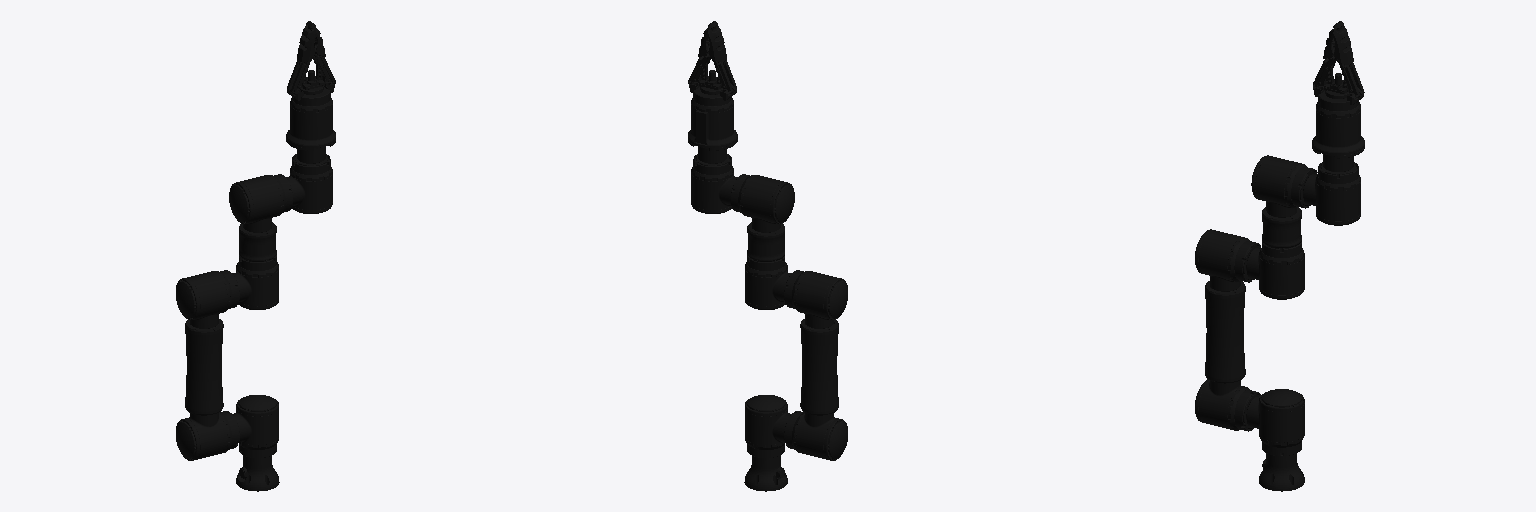
The robot description file, URDF, robot "aquarm_origin":
<?xml version="1.0"?>
<robot name="aquarm_origin">
  <material name="silver">
    <color rgba="0.116 0.116 0.116 1.000"/>
  </material>
  <link name="base_link">
    <inertial>
      <origin rpy="0 0 0" xyz="-0.0012826207051944384 9.218271998639004e-07 0.022718286485849747"/>
      <mass value="0.43979388247230944"/>
      <inertia ixx="0.000228" ixy="0.0" ixz="2e-06" iyy="0.000242" iyz="-0.0" izz="0.00024"/>
    </inertial>
    <visual>
      <origin rpy="0 0 0" xyz="0 0 0"/>
      <geometry>
        <mesh filename="../meshes/aquarm_origin/base_link.stl" scale="1.0 1.0 1.0"/>
      </geometry>
      <material name="silver"/>
    </visual>
    <collision>
      <origin rpy="0 0 0" xyz="0 0 0.028"/>
      <geometry>
        <cylinder radius="0.030" length="0.046"/>
      </geometry>
    </collision>
  </link>
  <link name="link_1">
    <inertial>
      <origin rpy="0 0 0" xyz="-0.002360416530553523 -3.52764964031724e-06 0.03938053665298224"/>
      <mass value="0.7586472269825323"/>
      <inertia ixx="0.000583" ixy="-0.0" ixz="1.9e-05" iyy="0.000642" iyz="-1e-06" izz="0.000509"/>
    </inertial>
    <visual>
      <origin rpy="0 0 0" xyz="0.0 0.0 -0.056"/>
      <geometry>
        <mesh filename="../meshes/aquarm_origin/link_1.stl" scale="1.0 1.0 1.0"/>
      </geometry>
      <material name="silver"/>
    </visual>
    <collision>
      <origin rpy="0 0 0" xyz="0 0 0.01"/>
      <geometry>
        <cylinder radius="0.025" length="0.0195"/>
      </geometry>
    </collision>
    <collision>
      <origin rpy="0 0 0" xyz="0 0 0.055"/>
      <geometry>
        <cylinder radius="0.040" length="0.07"/>
      </geometry>
    </collision>
    <collision>
      <origin rpy="0 1.5708 0" xyz="-0.05 0 0.05"/>
      <geometry>
        <cylinder radius="0.025" length="0.0195"/>
      </geometry>
    </collision>
  </link>
  <link name="link_2">
    <inertial>
      <origin rpy="0 0 0" xyz="-0.0412061525896634 -1.451457640822732e-09 0.12500022434407893"/>
      <mass value="1.8322876716564722"/>
      <inertia ixx="0.02501" ixy="-0.0" ixz="0.0" iyy="0.025305" iyz="0.0" izz="0.0014"/>
    </inertial>
    <visual>
      <origin rpy="0 0 0" xyz="0.0495 -0.0 -0.106"/>
      <geometry>
        <mesh filename="../meshes/aquarm_origin/link_2.stl" scale="1.0 1.0 1.0"/>
      </geometry>
      <material name="silver"/>
    </visual>
    <collision>
      <origin rpy="0 1.5708 0" xyz="-0.05 0 0"/>
      <geometry>
        <cylinder radius="0.040" length="0.07"/>
      </geometry>
    </collision>
    <collision>
      <origin rpy="0 0 0" xyz="-0.05 0 0.125"/>
      <geometry>
        <cylinder radius="0.030" length="0.18"/>
      </geometry>
    </collision>
    <collision>
      <origin rpy="0 1.5708 0" xyz="-0.05 0 0.25"/>
      <geometry>
        <cylinder radius="0.040" length="0.07"/>
      </geometry>
    </collision>
  </link>
  <link name="link_3">
    <inertial>
      <origin rpy="0 0 0" xyz="0.047139569533553013 3.524564222311259e-06 0.010619424652950016"/>
      <mass value="0.7586473967627646"/>
      <inertia ixx="0.000583" ixy="0.0" ixz="-1.9e-05" iyy="0.000642" iyz="-1e-06" izz="0.000509"/>
    </inertial>
    <visual>
      <origin rpy="0 0 0" xyz="0.0495 0.0 -0.356"/>
      <geometry>
        <mesh filename="../meshes/aquarm_origin/link_3.stl" scale="1.0 1.0 1.0"/>
      </geometry>
      <material name="silver"/>
    </visual>
    <collision>
      <origin rpy="0 1.5708 0" xyz="0 0 0"/>
      <geometry>
        <cylinder radius="0.025" length="0.0195"/>
      </geometry>
    </collision>
    <collision>
      <origin rpy="0 0 0" xyz=" 0.05 0 0"/>
      <geometry>
        <cylinder radius="0.040" length="0.08"/>
      </geometry>
    </collision>
  </link>
  <link name="link_4">
    <inertial>
      <origin rpy="0 0 0" xyz="0.008481789051599051 -2.816168821948022e-06 0.08132283856391859"/>
      <mass value="0.9498457528251933"/>
      <inertia ixx="0.001335" ixy="1e-06" ixz="-0.00013" iyy="0.001488" iyz="-0.0" izz="0.000707"/>
    </inertial>
    <visual>
      <origin rpy="0 0 0" xyz="0.0 0.0 -0.406"/>
      <geometry>
        <mesh filename="../meshes/aquarm_origin/link_4.stl" scale="1.0 1.0 1.0"/>
      </geometry>
      <material name="silver"/>
    </visual>
    <collision>
      <origin rpy="0 0 0" xyz="0 0 0.02525"/>
      <geometry>
        <cylinder radius="0.025" length="0.07"/>
      </geometry>
    </collision>
    <collision>
      <origin rpy="0 1.5708 0" xyz="0.0 0 0.1"/>
      <geometry>
        <cylinder radius="0.040" length="0.08"/>
      </geometry>
    </collision>
  </link>
  <link name="link_5">
    <inertial>
      <origin rpy="0 0 0" xyz="0.04705218543959541 3.912807862299357e-06 0.010967305416015205"/>
      <mass value="0.7307706362027909"/>
      <inertia ixx="0.000568" ixy="0.0" ixz="-2e-05" iyy="0.000627" iyz="-1e-06" izz="0.000486"/>
    </inertial>
    <visual>
      <origin rpy="0 0 0" xyz="-0.05 0.0 -0.5035"/>
      <geometry>
        <mesh filename="../meshes/aquarm_origin/link_5.stl" scale="1.0 1.0 1.0"/>
      </geometry>
      <material name="silver"/>
    </visual>
    <collision>
      <origin rpy="0 1.5708 0" xyz="0 0 0"/>
      <geometry>
        <cylinder radius="0.025" length="0.0195"/>
      </geometry>
    </collision>
    <collision>
      <origin rpy="0 0 0" xyz="0.05 0 0.0"/>
      <geometry>
        <cylinder radius="0.040" length="0.08"/>
      </geometry>
    </collision>
    <collision>
      <origin rpy="0 0 0" xyz="0.05 0 0.05"/>
      <geometry>
        <cylinder radius="0.025" length="0.0195"/>
      </geometry>
    </collision>
  </link>
  <link name="link_6">
    <inertial>
      <origin rpy="0 0 0" xyz="-4.7406523151494184e-14 -2.5552644099596276e-14 0.010000000000001674"/>
      <mass value="0.021577473094923763"/>
      <inertia ixx="4e-06" ixy="-0.0" ixz="-0.0" iyy="4e-06" iyz="-0.0" izz="7e-06"/>
    </inertial>
  </link>
  <joint name="joint1" type="continuous">
    <origin rpy="0 0 0" xyz="0.0 0.0 0.056"/>
    <parent link="base_link"/>
    <child link="link_1"/>
    <axis xyz="0.0 0.0 1.0"/>
  </joint>
  <joint name="joint2" type="continuous">
    <origin rpy="0 0 0" xyz="-0.0495 0.0 0.05"/>
    <parent link="link_1"/>
    <child link="link_2"/>
    <axis xyz="-1.0 0.0 0.0"/>
  </joint>
  <joint name="joint3" type="continuous">
    <origin rpy="0 0 0" xyz="0.0 -0.0 0.25"/>
    <parent link="link_2"/>
    <child link="link_3"/>
    <axis xyz="1.0 0.0 0.0"/>
  </joint>
  <joint name="joint4" type="continuous">
    <origin rpy="0 0 0" xyz="0.0495 0.0 0.05"/>
    <parent link="link_3"/>
    <child link="link_4"/>
    <axis xyz="0.0 0.0 1.0"/>
  </joint>
  <joint name="joint5" type="continuous">
    <origin rpy="0 0 0" xyz="0.05 0.0 0.0975"/>
    <parent link="link_4"/>
    <child link="link_5"/>
    <axis xyz="1.0 0.0 0.0"/>
  </joint>
  <joint name="joint6" type="continuous">
    <origin rpy="0 0 0" xyz="0.0495 0.0 0.05"/>
    <parent link="link_5"/>
    <child link="link_6"/>
    <axis xyz="0.0 0.0 1.0"/>
  </joint>
  <link name="gripper_base_link">
    <inertial>
      <origin xyz="2.874382630330837e-05 0.00032300640755650897 0.07413755373578114" rpy="0 0 0"/>
      <mass value="0.9543325148196851"/>
      <inertia ixx="0.001263" iyy="0.001263" izz="0.001263" ixy="0.0" iyz="0.0" ixz="0.0"/>
    </inertial>
    <visual>
      <origin xyz="0 0 0" rpy="0 0 0"/>
      <geometry>
        <mesh filename="../meshes/aquarm_gripper/base_link.stl" scale="0.001 0.001 0.001"/>
      </geometry>
      <material name="silver"/>
    </visual>
    <collision>
      <origin xyz="0 0 0.065" rpy="0 0 0"/>
      <geometry>
        <cylinder radius="0.035" length="0.13"/>
      </geometry>
    </collision>
  </link>
  <link name="gripper_link1_1">
    <inertial>
      <origin xyz="1.2981653403686188e-05 0.0001181972010493529 0.0031554392381963337" rpy="0 0 0"/>
      <mass value="0.01637046903305581"/>
      <inertia ixx="4e-06" iyy="4e-06" izz="4e-06" ixy="0.0" iyz="0.0" ixz="0.0"/>
    </inertial>
    <visual>
      <origin xyz="0.0 0.0 -0.13" rpy="0 0 0"/>
      <geometry>
        <mesh filename="../meshes/aquarm_gripper/link1_1.stl" scale="0.001 0.001 0.001"/>
      </geometry>
      <material name="silver"/>
    </visual>
    <collision>
      <origin xyz="0 0 0.012" rpy="0 0 0"/>
      <geometry>
        <cylinder radius="0.01" length="0.024"/>
      </geometry>
    </collision>
  </link>
  <link name="gripper_link2_1">
    <inertial>
      <origin xyz="-0.0008777134187768348 -3.9470801397731e-17 0.014722695965064814" rpy="0 0 0"/>
      <mass value="0.0031056680023130606"/>
      <inertia ixx="5e-07" iyy="5e-07" izz="5e-07" ixy="0.0" iyz="0.0" ixz="0.0"/>
    </inertial>
    <visual>
      <origin xyz="0.0135 0.0 -0.133" rpy="0 0 0"/>
      <geometry>
        <mesh filename="../meshes/aquarm_gripper/link2_1.stl" scale="0.001 0.001 0.001"/>
      </geometry>
      <material name="silver"/>
    </visual>
    <collision>
      <origin xyz="-0.0065 0 0.015" rpy="0 -0.408908 0"/>
      <geometry>
        <cylinder radius="0.008" length="0.032696"/>
      </geometry>
    </collision>
  </link>
  <link name="gripper_link3_1">
    <inertial>
      <origin xyz="0.010342488380327412 2.175879177239104e-05 0.023354454080433962" rpy="0 0 0"/>
      <mass value="0.016289085412063534"/>
      <inertia ixx="5e-06" iyy="5e-06" izz="5e-06" ixy="0.0" iyz="0.0" ixz="0.0"/>
    </inertial>
    <visual>
      <origin xyz="0.027165 -0.0 -0.135976" rpy="0 0 0"/>
      <geometry>
        <mesh filename="../meshes/aquarm_gripper/link3_1.stl" scale="0.001 0.001 0.001"/>
      </geometry>
      <material name="silver"/>
    </visual>
    <collision>
      <origin xyz="0.0105 0 0.0235" rpy="0 0.420197 0"/>
      <geometry>
        <cylinder radius="0.004" length="0.051478"/>
      </geometry>
    </collision>
  </link>
  <link name="gripper_link5_1">
    <inertial>
      <origin xyz="0.008267195016849185 -3.449215270715125e-06 0.026908359995210657" rpy="0 0 0"/>
      <mass value="0.04694001446420545"/>
      <inertia ixx="1.4e-05" iyy="1.4e-05" izz="1.4e-05" ixy="0.0" iyz="0.0" ixz="0.0"/>
    </inertial>
    <visual>
      <origin xyz="0.017314 -0.0 -0.175695" rpy="0 0 0"/>
      <geometry>
        <mesh filename="../meshes/aquarm_gripper/link5_1.stl" scale="0.001 0.001 0.001"/>
      </geometry>
      <material name="silver"/>
    </visual>
    <collision>
      <origin xyz="0.004 0 0.0135" rpy="0 0.288055 0"/>
      <geometry>
        <cylinder radius="0.005" length="0.028160"/>
      </geometry>
    </collision>
    <collision>
      <origin xyz="0.0063 0 0.029" rpy="0 0 0"/>
      <geometry>
        <box size="0.021 0.04 0.06"/>
      </geometry>
    </collision>
  </link>
  <link name="gripper_link4_1">
    <inertial>
      <origin xyz="0.01012132318758065 5.766794515866274e-17 0.02285987963395339" rpy="0 0 0"/>
      <mass value="0.009625997784129314"/>
      <inertia ixx="2e-06" iyy="2e-06" izz="2e-06" ixy="0.0" iyz="0.0" ixz="0.0"/>
    </inertial>
    <visual>
      <origin xyz="0.037557 -0.0 -0.129976" rpy="0 0 0"/>
      <geometry>
        <mesh filename="../meshes/aquarm_gripper/link4_1.stl" scale="0.001 0.001 0.001"/>
      </geometry>
      <material name="silver"/>
    </visual>
    <collision>
      <origin xyz="0.01 0 0.023" rpy="0 0.410127 0"/>
      <geometry>
        <cylinder radius="0.008" length="0.050160"/>
      </geometry>
    </collision>
  </link>
  <link name="gripper_link6_1">
    <inertial>
      <origin xyz="0.0008777134187761132 -4.4007813018918896e-17 0.01472269596506487" rpy="0 0 0"/>
      <mass value="0.0031056680023130606"/>
      <inertia ixx="5e-07" iyy="5e-07" izz="5e-07" ixy="0.0" iyz="0.0" ixz="0.0"/>
    </inertial>
    <visual>
      <origin xyz="-0.0135 0.0 -0.133" rpy="0 0 0"/>
      <geometry>
        <mesh filename="../meshes/aquarm_gripper/link6_1.stl" scale="0.001 0.001 0.001"/>
      </geometry>
      <material name="silver"/>
    </visual>
    <collision>
      <origin xyz="0.0065 0 0.015" rpy="0 0.408908 0"/>
      <geometry>
        <cylinder radius="0.008" length="0.032696"/>
      </geometry>
    </collision>
  </link>
  <link name="gripper_link7_1">
    <inertial>
      <origin xyz="-0.010342488380328928 -2.1758791772291002e-05 0.023354454080433962" rpy="0 0 0"/>
      <mass value="0.016289085412063534"/>
      <inertia ixx="5e-06" iyy="5e-06" izz="5e-06" ixy="0.0" iyz="0.0" ixz="0.0"/>
    </inertial>
    <visual>
      <origin xyz="-0.027165 -0.0 -0.135976" rpy="0 0 0"/>
      <geometry>
        <mesh filename="../meshes/aquarm_gripper/link7_1.stl" scale="0.001 0.001 0.001"/>
      </geometry>
      <material name="silver"/>
    </visual>
    <collision>
      <origin xyz="-0.0105 0 0.0235" rpy="0 -0.420197 0"/>
      <geometry>
        <cylinder radius="0.004" length="0.051478"/>
      </geometry>
    </collision>
  </link>
  <link name="gripper_link9_1">
    <inertial>
      <origin xyz="-0.008267195016851357 3.4492152707747913e-06 0.026908359995210768" rpy="0 0 0"/>
      <mass value="0.04694001446420545"/>
      <inertia ixx="1.4e-05" iyy="1.4e-05" izz="1.4e-05" ixy="0.0" iyz="0.0" ixz="0.0"/>
    </inertial>
    <visual>
      <origin xyz="-0.017314 -0.0 -0.175695" rpy="0 0 0"/>
      <geometry>
        <mesh filename="../meshes/aquarm_gripper/link9_1.stl" scale="0.001 0.001 0.001"/>
      </geometry>
      <material name="silver"/>
    </visual>
    <collision>
      <origin xyz="-0.004 0 0.0135" rpy="0 -0.288055 0"/>
      <geometry>
        <cylinder radius="0.005" length="0.028160"/>
      </geometry>
    </collision>
    <collision>
      <origin xyz="-0.0063 0 0.029" rpy="0 0 0"/>
      <geometry>
        <box size="0.021 0.04 0.06"/>
      </geometry>
    </collision>
  </link>
  <link name="gripper_link8_1">
    <inertial>
      <origin xyz="-0.010121323214474991 5.271210612159015e-17 0.022859879622045998" rpy="0 0 0"/>
      <mass value="0.009625997784129314"/>
      <inertia ixx="2e-06" iyy="2e-06" izz="2e-06" ixy="0.0" iyz="0.0" ixz="0.0"/>
    </inertial>
    <visual>
      <origin xyz="-0.037557 -0.0 -0.129976" rpy="0 0 0"/>
      <geometry>
        <mesh filename="../meshes/aquarm_gripper/link8_1.stl" scale="0.001 0.001 0.001"/>
      </geometry>
      <material name="silver"/>
    </visual>
    <collision>
      <origin xyz="-0.01 0 0.023" rpy="0 -0.410127 0"/>
      <geometry>
        <cylinder radius="0.008" length="0.050160"/>
      </geometry>
    </collision>
  </link>
  <joint name="gripper_mount_joint" type="fixed">
    <origin rpy="0 0 0" xyz="0 0 0"/>
    <parent link="link_6"/>
    <child link="gripper_base_link"/>
  </joint>
  <joint name="gripper_slide1" type="fixed">
    <origin xyz="0.0 0.0 0.13" rpy="0 0 0"/>
    <parent link="gripper_base_link"/>
    <child link="gripper_link1_1"/>
  </joint>
  <!-- Gripper drive joint: 0 (closed) to 1 rad (fully open). The other finger joints mimic it. -->
  <joint name="gripper_joint1" type="revolute">
    <origin xyz="-0.0135 0.0 0.003" rpy="0 0 0"/>
    <parent link="gripper_link1_1"/>
    <child link="gripper_link2_1"/>
    <axis xyz="0 -1 0"/>
    <limit lower="0.0" upper="1.0" effort="10" velocity="100"/>
  </joint>
  <joint name="gripper_joint2" type="revolute">
    <origin xyz="-0.027165 0.0 0.135976" rpy="0 0 0"/>
    <parent link="gripper_base_link"/>
    <child link="gripper_link3_1"/>
    <axis xyz="0 -1 0"/>
    <limit lower="0.0" upper="1.0" effort="10" velocity="100"/>
    <mimic joint="gripper_joint1" multiplier="1" offset="0"/>
  </joint>
  <joint name="gripper_joint5" type="revolute">
    <origin xyz="-0.037557 0.0 0.129976" rpy="0 0 0"/>
    <parent link="gripper_base_link"/>
    <child link="gripper_link4_1"/>
    <axis xyz="0 -1 0"/>
    <limit lower="0.0" upper="1.0" effort="10" velocity="100"/>
    <mimic joint="gripper_joint1" multiplier="1" offset="0"/>
  </joint>
  <joint name="gripper_joint6" type="revolute">
    <origin xyz="0.020243 0.0 0.045719" rpy="0 0 0"/>
    <parent link="gripper_link4_1"/>
    <child link="gripper_link5_1"/>
    <axis xyz="0 -1 0"/>
    <limit lower="-1.0" upper="0.0" effort="10" velocity="100"/>
    <mimic joint="gripper_joint1" multiplier="-1" offset="0"/>
  </joint>
  <joint name="gripper_joint7" type="revolute">
    <origin xyz="0.0135 0.0 0.003" rpy="0 0 0"/>
    <parent link="gripper_link1_1"/>
    <child link="gripper_link6_1"/>
    <axis xyz="0 1 0"/>
    <limit lower="0.0" upper="1.0" effort="10" velocity="100"/>
    <mimic joint="gripper_joint1" multiplier="1" offset="0"/>
  </joint>
  <joint name="gripper_joint8" type="revolute">
    <origin xyz="0.027165 0.0 0.135976" rpy="0 0 0"/>
    <parent link="gripper_base_link"/>
    <child link="gripper_link7_1"/>
    <axis xyz="0 -1 0"/>
    <limit lower="-1.0" upper="0.0" effort="10" velocity="100"/>
    <mimic joint="gripper_joint1" multiplier="-1" offset="0"/>
  </joint>
  <joint name="gripper_joint11" type="revolute">
    <origin xyz="0.037557 0.0 0.129976" rpy="0 0 0"/>
    <parent link="gripper_base_link"/>
    <child link="gripper_link8_1"/>
    <axis xyz="0 -1 0"/>
    <limit lower="-1.0" upper="0.0" effort="10" velocity="100"/>
    <mimic joint="gripper_joint1" multiplier="-1" offset="0"/>
  </joint>
  <joint name="gripper_joint12" type="revolute">
    <origin xyz="-0.020243 0.0 0.045719" rpy="0 0 0"/>
    <parent link="gripper_link8_1"/>
    <child link="gripper_link9_1"/>
    <axis xyz="0 -1 0"/>
    <limit lower="0.0" upper="1.0" effort="10" velocity="100"/>
    <mimic joint="gripper_joint1" multiplier="1" offset="0"/>
  </joint>
  <link name="tool"/>
  <joint name="tool_joint" type="fixed">
    <origin rpy="0 0 0" xyz="0 0 0.204695"/>
    <parent link="gripper_base_link"/>
    <child link="tool"/>
  </joint>
</robot>

--- What the picture shows (computed from the rendered views, not written in the file) ---
3 views of the same robot in one strip: view 1: azimuth 30°, elevation 25°; view 2: azimuth 150°, elevation 25°; view 3: azimuth 330°, elevation 25° (orthographic).
Robot: aquarm_origin — 18 links, 17 joints (8 revolute, 6 continuous, 3 fixed); root link base_link; default pose: every joint at zero.
Links seen in each view (by area): view 1: link_2, link_4, gripper_base_link, link_1, link_5, link_3, base_link, gripper_link5_1; view 2: link_2, link_4, gripper_base_link, link_1, link_5, link_3, base_link, gripper_link5_1; view 3: link_2, link_4, gripper_base_link, link_1, link_5, link_3, base_link, gripper_link9_1.
Link boxes in pixels (box(x1,y1,x2,y2)): link_2: box(176, 270, 239, 460); link_4: box(229, 174, 292, 261); gripper_base_link: box(286, 70, 335, 163); link_1: box(233, 395, 278, 457); link_5: box(286, 154, 332, 213); link_3: box(232, 255, 278, 309); base_link: box(236, 455, 279, 491); gripper_link5_1: box(297, 21, 315, 64); link_2: box(784, 270, 847, 460); link_4: box(731, 174, 794, 261); gripper_base_link: box(688, 70, 737, 163); link_1: box(745, 395, 790, 457); link_5: box(691, 154, 737, 213); link_3: box(745, 255, 791, 309); base_link: box(744, 455, 787, 491); gripper_link5_1: box(708, 21, 726, 64); link_2: box(1195, 229, 1260, 431); link_4: box(1251, 155, 1317, 247); gripper_base_link: box(1312, 73, 1364, 171); link_1: box(1246, 389, 1304, 455); link_5: box(1303, 162, 1360, 225); link_3: box(1246, 241, 1304, 299); base_link: box(1259, 453, 1304, 491); gripper_link9_1: box(1333, 21, 1353, 67).
Size in the robot's own frame: 0.286 by 0.081 by 0.7941 metres.
Meshes: 16 distinct files referenced, 16 mesh visuals loaded (16 binary STL).
